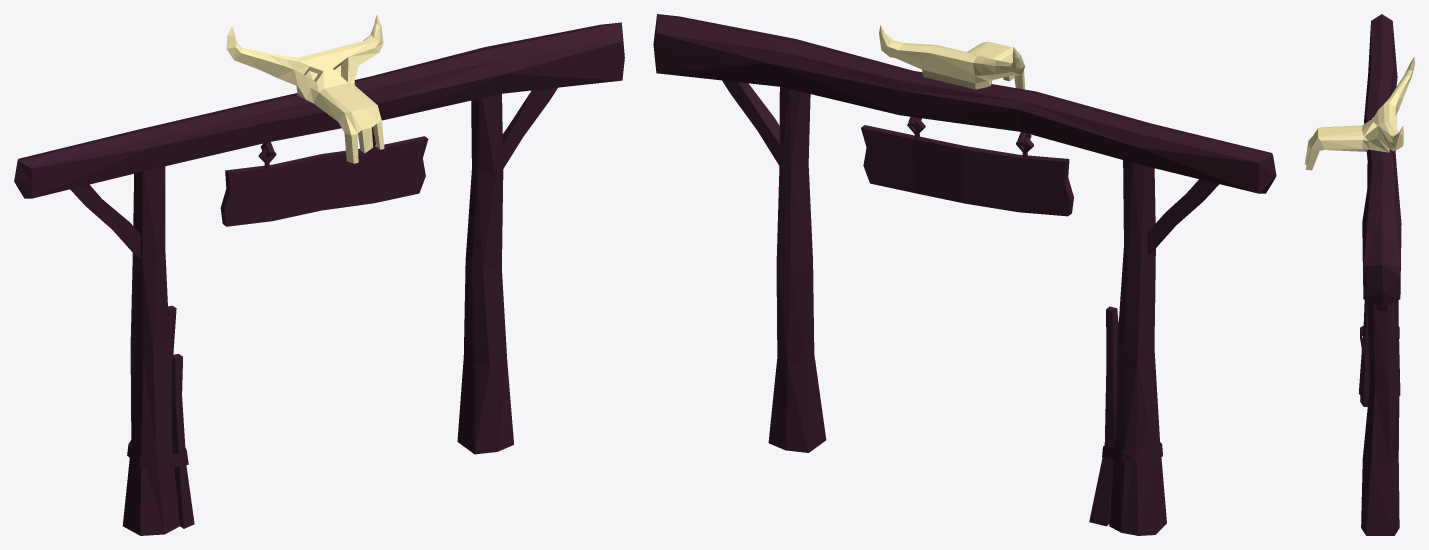
Rendered from Gate01.FBX.
3 views of the same model, side by side, from view 1: azimuth 30°, elevation 25°; view 2: azimuth 150°, elevation 25°; view 3: azimuth 270°, elevation 25° (orthographic). The views are drawn at different scales.
Parts seen in each view (by area): view 1: Gate01, Gate01_Sign, Skull01; view 2: Gate01, Gate01_Sign, Skull01; view 3: Gate01, Skull01.
Part boxes in pixels (box(x1,y1,x2,y2)): Gate01: box(14, 22, 624, 535); Gate01_Sign: box(220, 129, 428, 226); Skull01: box(226, 14, 384, 163); Gate01: box(653, 14, 1276, 535); Gate01_Sign: box(861, 118, 1073, 216); Skull01: box(879, 25, 1025, 89); Gate01: box(1358, 14, 1401, 535); Skull01: box(1305, 57, 1414, 170).
Bounding box in the file's own units: 9.11 × 6.57 × 1.73.
Materials: 1 (1 with a texture image).
